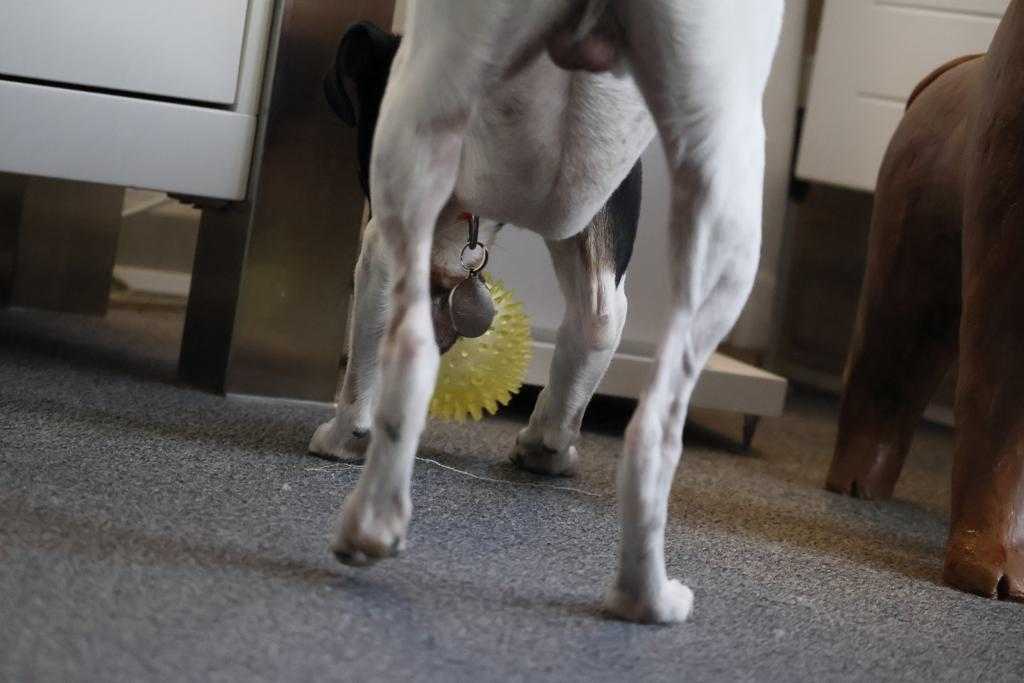Cattle: (821, 0, 1024, 608)
Dog: (300, 0, 799, 634)
